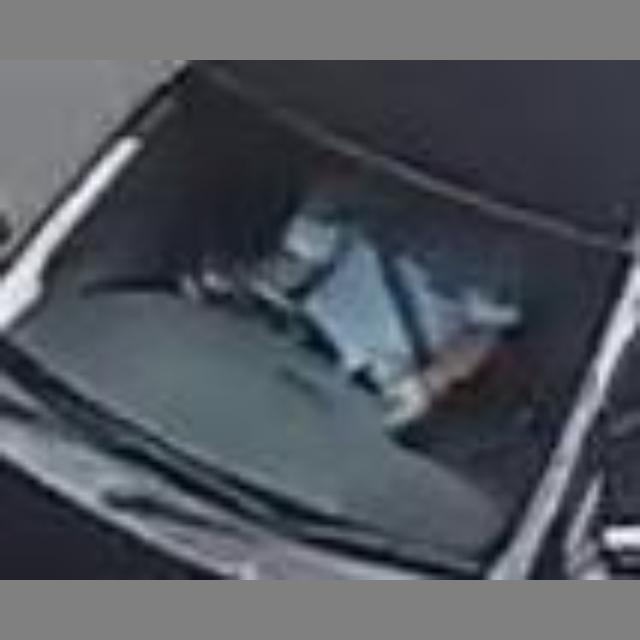pakai: (239, 156, 508, 419)
